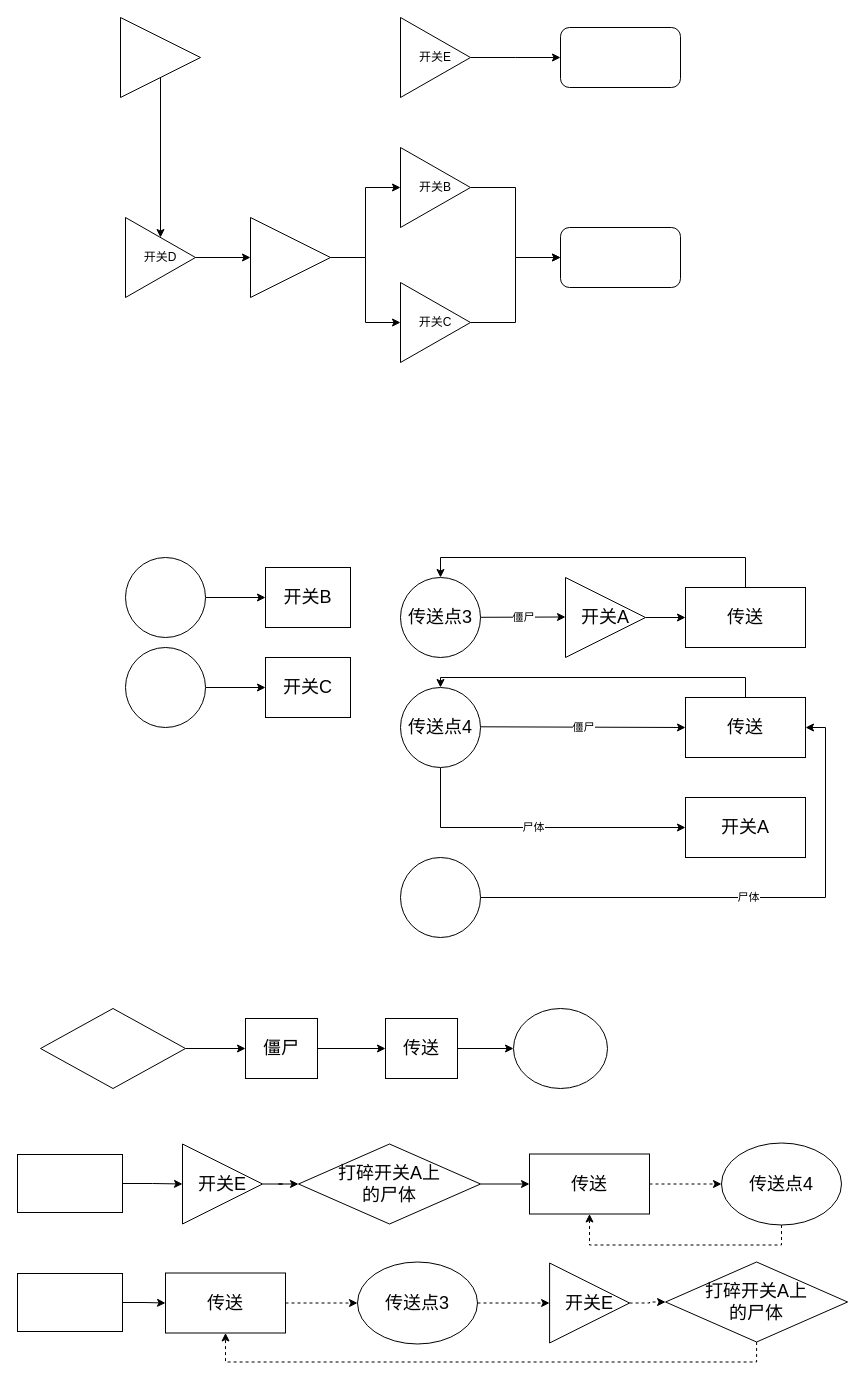
This 866x1388 diagram has some shape labels left out. Each missing label, with the centre of its shape:
"传送点1" goes at point (165, 597).
"传送点2" goes at point (165, 687).
"僵尸 开关A" goes at point (160, 57).
"僵尸x出生点" goes at point (69, 1302).
"僵尸y出生点" goes at point (69, 1183).
"僵尸Y可以进入传送" goes at point (620, 57).
"关闭陷阱A" goes at point (113, 1048).
"尸体开关A" goes at point (290, 257).
"开关B和C" goes at point (560, 1048).
"得到奖杯" goes at point (620, 257).
"锯齿S" goes at point (440, 897).
